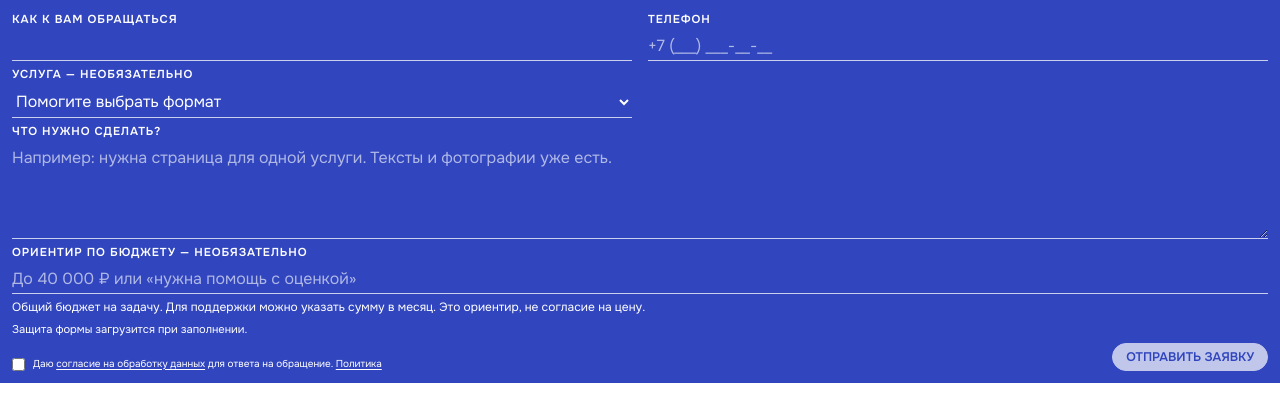
Test case: announces a recoverable error when the Turnstile script cannot load
Step 1. Focus the field labelled "Как к вам обращаться" → {"x": 322, "y": 46}, box [12, 31, 632, 61]
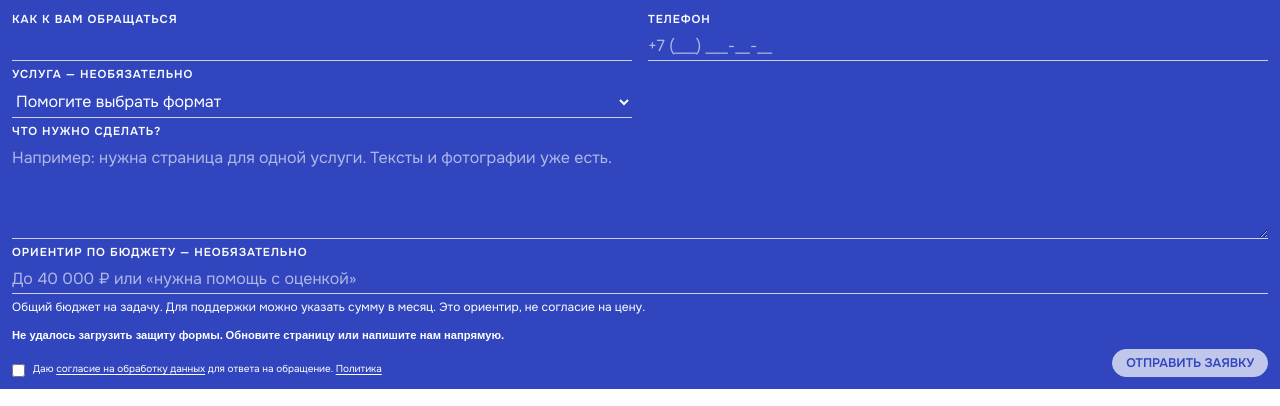
Check: the button "Отправить заявку" is disabled, box [1112, 349, 1268, 377]
Check: the message shows "Не удалось загрузить защиту формы", box [12, 328, 504, 342]
